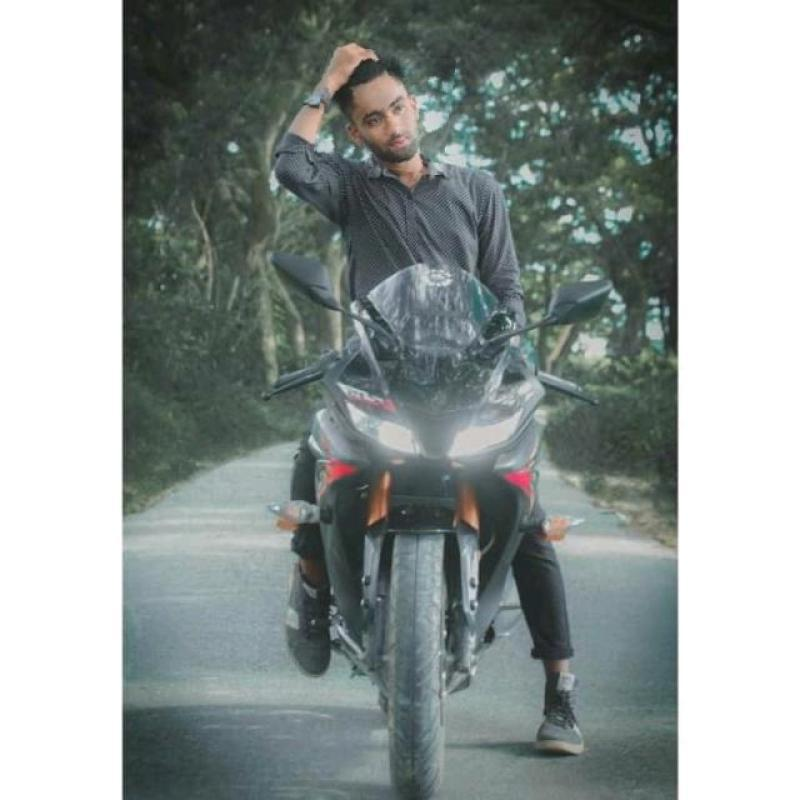nohelmet: (316, 48, 453, 172)
